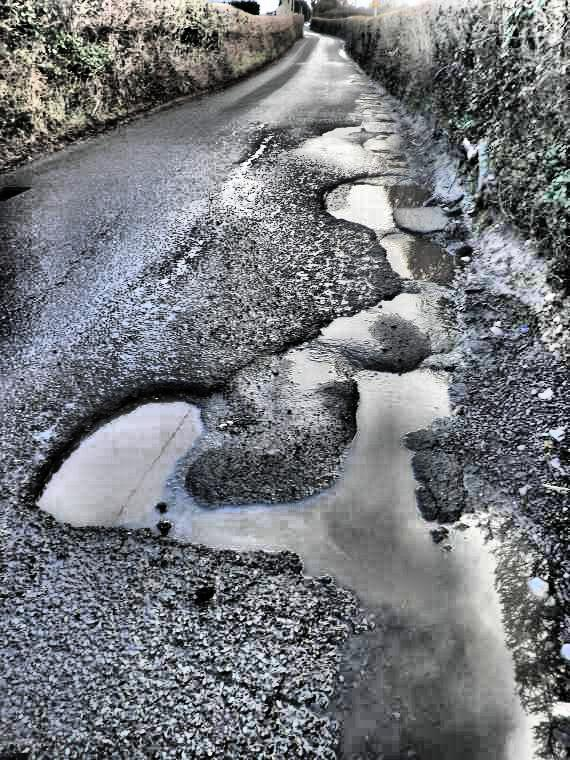pothole: (26, 374, 211, 550), (339, 358, 458, 441), (321, 162, 397, 249)
